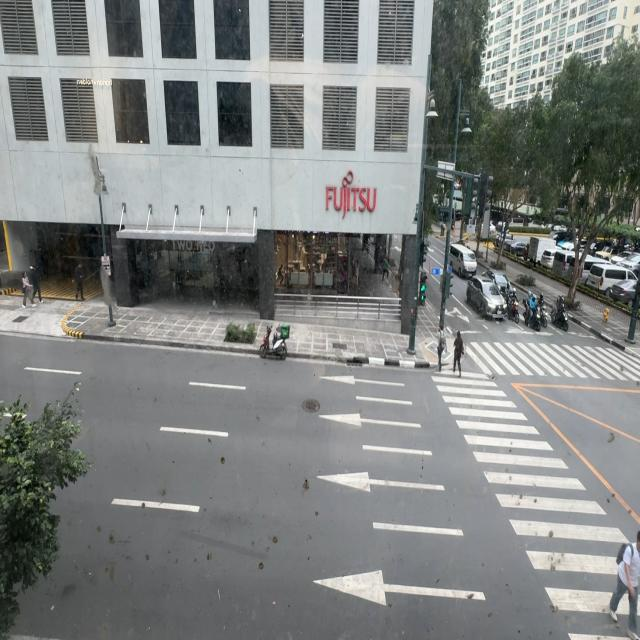crossing: (609, 532, 639, 640), (452, 330, 465, 377), (436, 326, 447, 370)
pedestrain: (30, 262, 44, 306), (22, 270, 37, 310), (73, 262, 85, 302)
